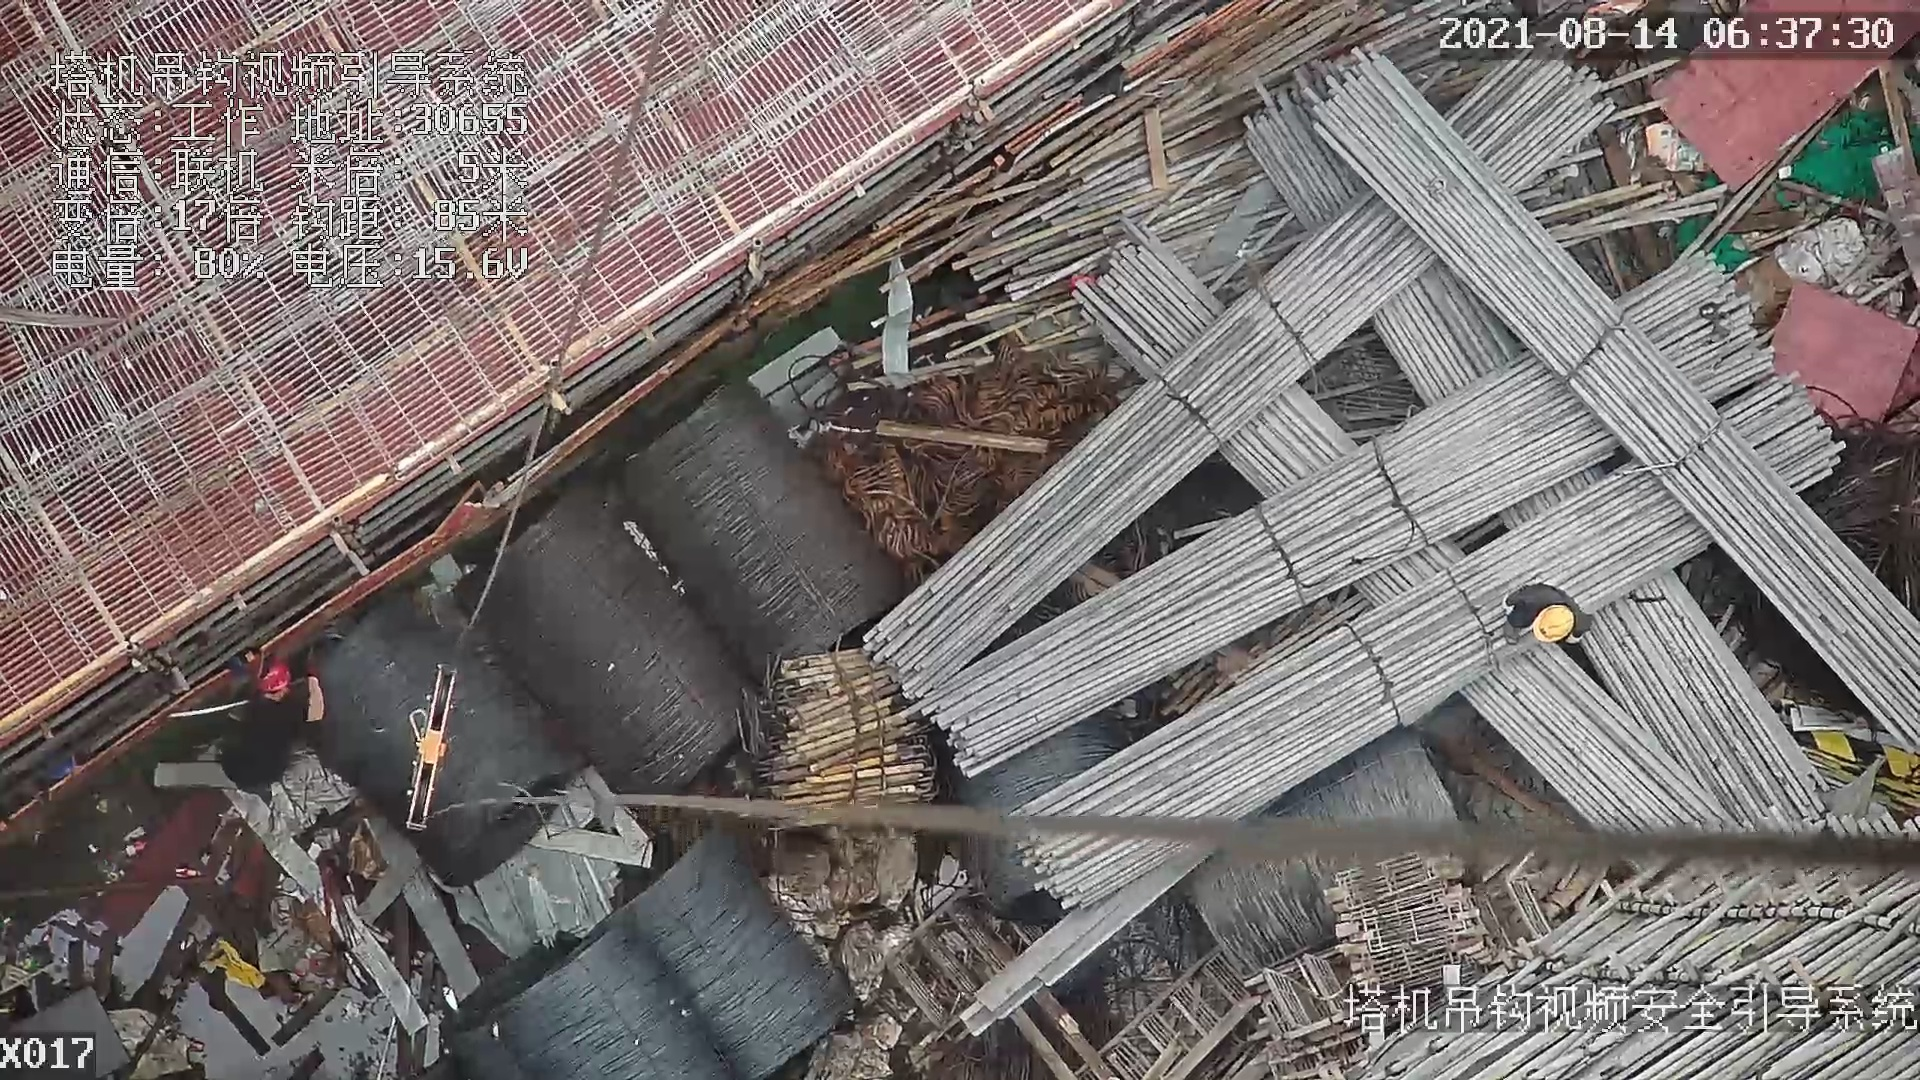helmet: (1527, 603, 1579, 648), (255, 658, 293, 695)
hook: (403, 658, 456, 839)
person: (215, 664, 331, 791), (1497, 580, 1596, 653)
scaffold: (958, 47, 1915, 842), (741, 632, 938, 808)
